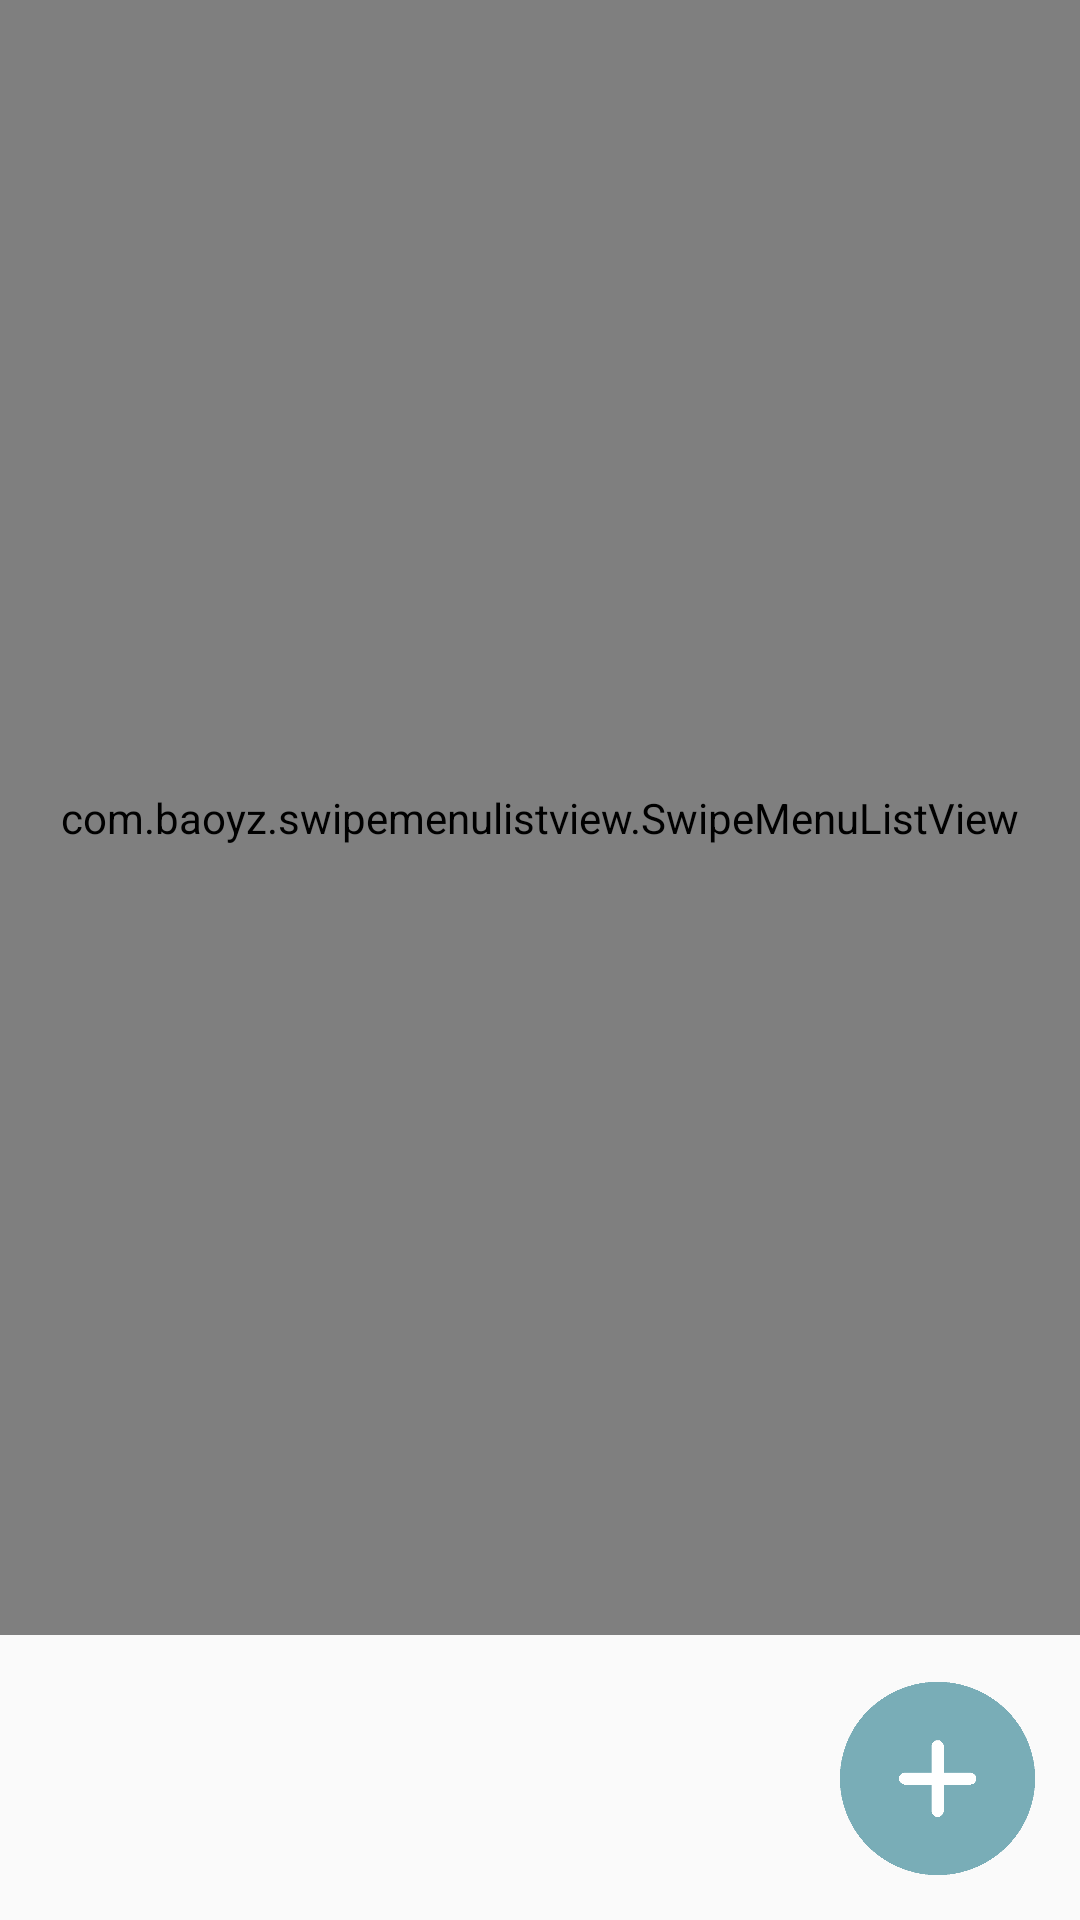

Named icons in this screenshot (1080*1920) and their bounding boxes, (x1, y1, x2, y2):
btnplus: (840, 1682, 1035, 1875)
